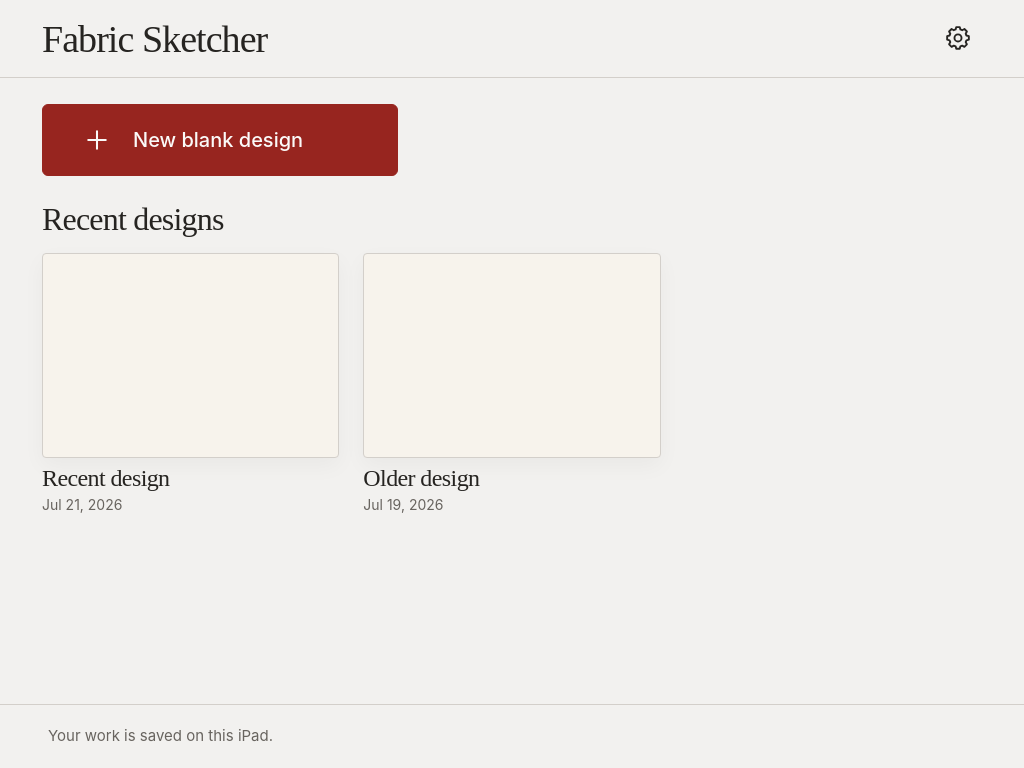
Test: App › opens an existing project from its gallery sheet
Expected: the text "Recent design" is shown, [42, 465, 170, 491]
Click the button "Recent design Jul 21, 2026".
click(191, 384)  # box [42, 253, 339, 514]
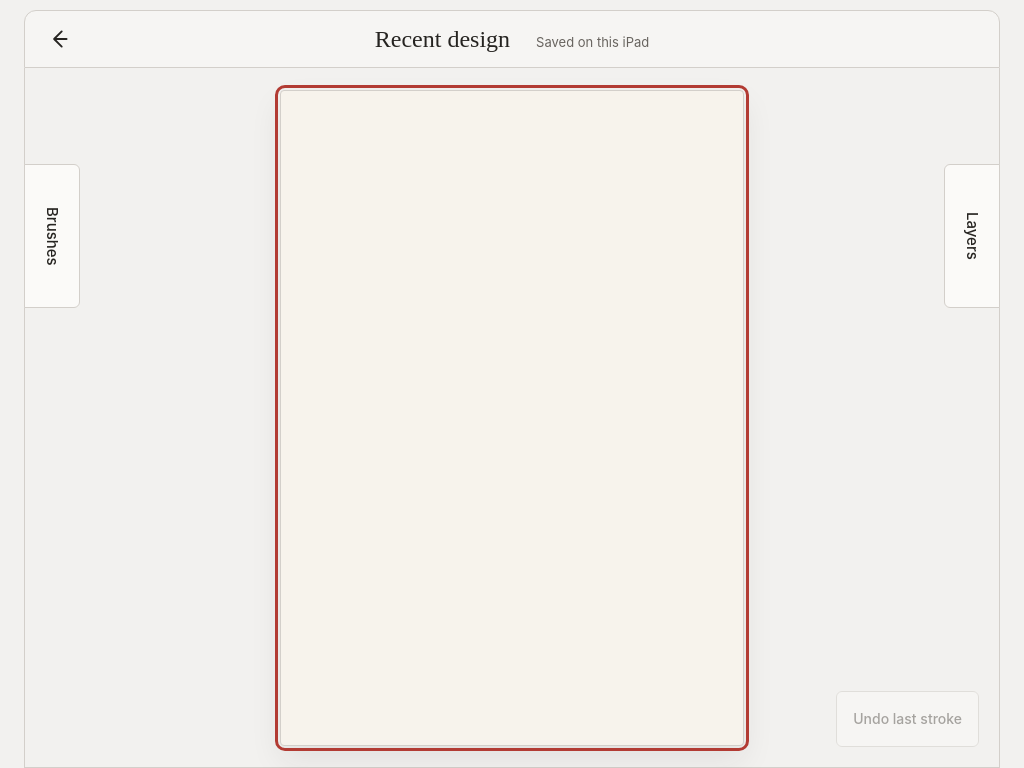
Now the heading "Recent design" is shown, box [375, 26, 510, 52]
